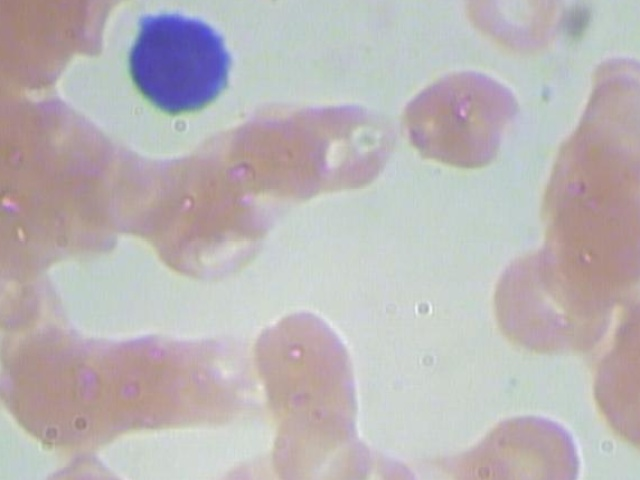RBC: (0, 322, 128, 455), (247, 302, 365, 443), (480, 240, 619, 355), (268, 88, 394, 199), (542, 165, 640, 307), (402, 65, 523, 174), (429, 409, 589, 480), (147, 325, 250, 433), (97, 143, 193, 237), (261, 401, 370, 480), (569, 73, 640, 178), (0, 181, 75, 278), (451, 0, 574, 55)
WBC: (108, 0, 241, 122)
